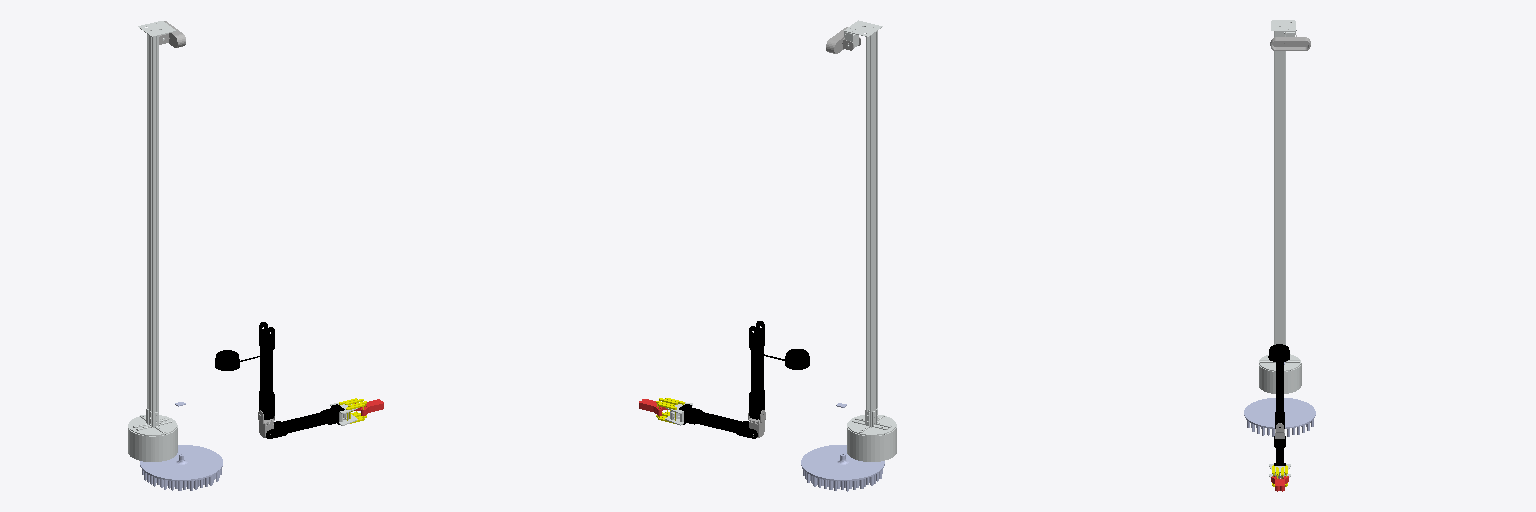
--- Render facts (derived) ---
The picture shows the robot from 3 angles, left to right: view 1: azimuth 30°, elevation 25°; view 2: azimuth 150°, elevation 25°; view 3: azimuth 270°, elevation 25°; orthographic projection.
Robot: saclebot — 34 links, 33 joints (11 revolute, 5 continuous, 1 prismatic, 16 fixed); root link base_footprint; default pose: every joint at zero.
Visible links, largest first — view 1: shoulder_link, mop_link, R1_link, base_manipulator, R3_link; view 2: shoulder_link, mop_link, R1_link, base_manipulator, R3_link; view 3: shoulder_link, mop_link, base_manipulator, R1_link, camera_head_link.
Boxes of the visible links, box(x1,y1,x2,y2) form: shoulder_link: box(129, 21, 176, 435); mop_link: box(140, 445, 222, 490); R1_link: box(259, 322, 274, 419); base_manipulator: box(128, 424, 177, 461); R3_link: box(266, 404, 344, 438); shoulder_link: box(844, 20, 895, 435); mop_link: box(801, 445, 884, 491); R1_link: box(749, 321, 764, 419); base_manipulator: box(847, 423, 896, 461); R3_link: box(679, 404, 757, 438); shoulder_link: box(1259, 20, 1300, 371); mop_link: box(1244, 398, 1315, 436); base_manipulator: box(1259, 360, 1301, 393); R1_link: box(1273, 347, 1286, 428); camera_head_link: box(1270, 35, 1310, 50).
Bounding box of the posed robot: 0.8707 × 0.2499 × 1.49 m (x, y, z).
Meshes: 23 distinct files referenced, 16 mesh visuals loaded (16 binary STL); not drawn: 7 (reference not matched to a file when rendering).

URDF robot description (saclebot):
<?xml version="1.0" encoding="utf-8"?>
<!-- URDF FILE GENERATED USING SOLIDWORKS TO URDF PLUGIN-->
<!-- MAINTAINER OF THESE FILES - SaCleBot Team - DIAT-->
<!-- Note to the reader for the effective simulation masses of all links are made to reduce by half -->
<robot name="saclebot">
                                        <!-- SaCleBot Main Assembly - Base link -->
  <link name="base_footprint"/>
  <joint name="base_joint" type="fixed">
    <parent link="base_footprint"/>
    <child link="base_link"/>
    <origin xyz="0 0 0.2575" rpy="0 0 0"/>
  </joint>
  <link name="base_link"> <!-- 2 -->
    <inertial>
      <origin xyz="0.0030962 -0.0067056 -0.034909" rpy="0 0 0" />
      <mass value="4.57525" />
      <inertia ixx="0.053635" ixy="1.4367E-08" ixz="-0.73790E-09" iyy="0.063745" iyz="-0.075785E-09" izz="0.0111315" />
    </inertial>
    <visual>
      <origin xyz="0 0 0" rpy="0 0 0" />
      <geometry>
        <mesh filename="package://saclebot_description/meshes/base_link.STL" />
      </geometry>
      <material name="">
        <color rgba="0.75294 0.75294 0.75294 1" />
      </material>
    </visual>
    <collision>
      <origin xyz="0 0 0" rpy="0 0 0" />
      <geometry>
        <mesh filename="package://saclebot_description/meshes/base_link.STL" />
      </geometry>
    </collision>
  </link>
  
                                        <!-- SaCleBot Main Assembly -  manipulator base -->
  <link name="base_manipulator">
    <inertial>
      <origin xyz="3.6943E-05 -0.00021046 -0.054473" rpy="0 0 0" />
      <mass value="1.0364" />
      <inertia ixx="0.0025042" ixy="-0.97525E-06" ixz="-3.9547E-08" iyy="0.00250305" iyz="-0.7373E-07" izz="0.0039533" />
    </inertial>
    <visual>
      <origin xyz="0 0 0" rpy="0 0 0" />
      <geometry>
        <mesh filename="package://saclebot_description/meshes/base_manipulator.STL" />
      </geometry>
      <material name="">
        <color rgba="0.90196 0.92157 0.92157 1" />
      </material>
    </visual>
    <collision>
      <origin xyz="0 0 0" rpy="0 0 0" />
      <geometry>
        <mesh filename="package://saclebot_description/meshes/base_manipulator.STL" />
      </geometry>
    </collision>
  </link>
  <joint name="base_manipulator_joint" type="fixed">
    <origin xyz="-0.1 -0.0074 -0.041" rpy="0 0 0" />
    <parent link="base_link" />
    <child link="base_manipulator" />
    <axis xyz="0 0 0" />
  </joint>
  
                                    <!-- SaCleBot Main Assembly - Shoulder Link-->
  <link name="shoulder_link">
    <inertial>
      <origin xyz="0.002613 0.0018963 0.57866" rpy="0 0 0" />
      <mass value="0.6828" />
      <inertia ixx="0.072905" ixy="-1.37205E-08" ixz="2.27745E-07" iyy="0.072845" iyz="1.49155E-07" izz="0.00036781" />
    </inertial>
    <visual>
      <origin xyz="0 0 0" rpy="0 0 0" />
      <geometry>
        <mesh filename="package://saclebot_description/meshes/shoulder_link.STL" />
      </geometry>
      <material name="">
        <color rgba="0.90196 0.92157 0.92157 1" />
      </material>
    </visual>
    <collision>
      <origin xyz="0 0 0" rpy="0 0 0" />
      <geometry>
        <mesh filename="package://saclebot_description/meshes/shoulder_link.STL" />
      </geometry>
    </collision>
  </link>
  <joint name="shoulder_joint" type="revolute"> 
    <origin xyz="0 0 0" rpy="0 0 0" />
    <parent link="base_manipulator" />
    <child link="shoulder_link" />
    <axis xyz="0 0 1" />
    <limit lower="0" upper="6.28" effort="10" velocity="2" />
  </joint>
<!--                     SaCleBot Main Assembly -                       camera head link                                          - intel real sense D345i-->
  <link name="camera_head_link">
    <inertial>
      <origin xyz="0.0266863314036889 2.22044604925031E-16 0.000112026493455208" rpy="0 0 0" />
      <mass value="0.0433695887950867" />
      <inertia ixx="0.000069700655463012" ixy="0.5986431190837E-19" ixz="1.195109891439365E-07" iyy="0.0000663023916539915" iyz="0.614128674868065E-18" izz="1.146724713408645E-05" />
    </inertial>
    <visual>
      <origin xyz="0 0 0" rpy="0 0 0" />
      <geometry>
        <mesh filename="package://saclebot_description/meshes/camera_head_link.STL" />
      </geometry>
      <material name="">
        <color rgba="0.75294 0.75294 0.75294 1" />
      </material>
    </visual>
    <collision>
      <origin xyz="0 0 0" rpy="0 0 0" />
      <geometry>
        <mesh filename="package://saclebot_description/meshes/camera_head_link.STL" />
      </geometry>
    </collision>
  </link>
  <joint name="camera_head_joint" type="revolute"> 
    <origin xyz="0.0475 0.036858 1.2585" rpy="1.5708 0 0" /> <!-- rpy 1.5708-->
    <parent link="shoulder_link" />
    <child link="camera_head_link" />
    <axis xyz="0 0 -1" /> <!-- axis -1-->
    <limit
      lower="0"
      upper="1.5708"
      effort="1"
      velocity="1" />
  </joint>
  <!-- camera_link-->
  <link name="camera_screw_frame"/>
  <link name="realsense2_link">
    <inertial>
      <origin xyz="0.00162770944218829 0.00168231639481042 2.480462200527E-06" rpy="0 0 0" />
      <mass value="0.01909558623080485" />
      <inertia ixx="1.17868705512875E-05" ixy="2.255621114487075E-08" ixz="-0.65062788929991E-08" iyy="1.055844144648745E-06" iyz="-4.011940674203395E-09" izz="1.112855399590245E-05" />
    </inertial>
    <visual>
      <origin xyz="0 0 0" rpy="0 0 0" />
      <geometry>
        <mesh filename="package://saclebot_description/meshes/camera_link.dae" />
      </geometry>
      <material
        name="">
        <color rgba="0.752941176470588 0.752941176470588 0.752941176470588 1" />
      </material>
    </visual>
    <collision>
      <origin xyz="0 0 0" rpy="0 0 0" />
      <geometry>
        <mesh filename="package://saclebot_description/meshes/camera_link.dae" />
      </geometry>
    </collision>
  </link>
  
  <joint name="camera_screw_joint" type="fixed">
    <origin xyz="0.041 0 0" rpy = "-1.57079632679491 0 0"/>
    <parent link="camera_head_link"/>
    <child link="camera_screw_frame"/>
  </joint>
  
  <joint name="camera_joint" type="fixed">
    <origin xyz="0 0 0" rpy="0 0 0" />
    <parent link="camera_screw_frame" />
    <child link="realsense2_link" />
    <axis xyz="0 0 0" />
  </joint>
  
  <link name="realsense2_depth_frame" />
  
  <joint name="realsense2_depth_joint" type="fixed">
    <origin xyz="0 0.0175 0" rpy="0 0 0"/>
    <parent link="realsense2_link"/>
    <child link="realsense2_depth_frame"/>
  </joint>
  
  <link name="realsense2_depth_optical_frame" />
  
  <joint name="realsense2_depth_optical_joint" type="fixed">
   <origin xyz="0 0 0" rpy="-1.5708 0 -1.5708"/>
   <parent link="realsense2_depth_frame"/>
   <child link="realsense2_depth_optical_frame"/>
  </joint>
  
  <link name="realsense2_left_ir_frame"/>
  
  <joint name="realsense2_left_ir_joint" type ="fixed">
    <origin xyz = "0 0 0" rpy = "0 0 0"/>
    <parent link="realsense2_depth_frame"/>
    <child link="realsense2_left_ir_frame"/>
  </joint>
  
  <link name="realsense2_left_ir_optical_frame"/>
  
  <joint name="realsense2_left_ir_optical_joint" type ="fixed">
    <origin xyz = "0 0 0" rpy = "-1.5708 0 -1.5708"/>
    <parent link="realsense2_left_ir_frame"/>
    <child link="realsense2_left_ir_optical_frame"/>
  </joint>
  
  <link name="realsense2_right_ir_frame"/>
  
  <joint name="realsense2_right_ir_joint" type ="fixed">
    <origin xyz = "0 -0.050 0" rpy = "0 0 0"/>
    <parent link="realsense2_depth_frame"/>
    <child link="realsense2_right_ir_frame"/>
  </joint>
  
  <link name="realsense2_right_ir_optical_frame"/>
  
  <joint name="realsense2_right_ir_optical_joint" type ="fixed">
    <origin xyz = "0 0 0" rpy = "-1.5708 0 -1.5708"/>
    <parent link="realsense2_right_ir_frame"/>
    <child link="realsense2_right_ir_optical_frame"/>
  </joint>
  
  <link name="realsense2_rgb_frame"/>
  
  <joint name="realsense2_rgb_joint" type ="fixed">
    <origin xyz = "0 0.015 0" rpy = "0 0 0"/>
    <parent link="realsense2_depth_frame"/>
    <child link="realsense2_rgb_frame"/>
  </joint>
  
  <link name="realsense2_rgb_optical_frame"/>
  
  <joint name="realsense2_rgb_optical_joint" type="fixed">
    <origin xyz="0 0 0" rpy = "-1.5708 0 -1.5708"/>
    <parent link = "realsense2_rgb_frame"/>
    <child link = "realsense2_rgb_optical_frame"/>
  </joint>
 
  <link name="realsense2_imu_frame"/>
  <joint name="realsense2_imu_joint" type="fixed">
    <origin xyz="0 0 0" rpy = "0 0 0"/>
    <parent link="realsense2_link"/>
    <child link="realsense2_imu_frame"/>
  </joint>
                                            <!-- SaCleBot Main Assembly - slider link -->
  <link name="slider_link">
    <inertial>
      <origin xyz="0.14315 -0.0088076 -9.8295E-07" rpy="0 0 0" /> 
      <mass value="0.244485" />
      <inertia ixx="0.000240945" ixy="-1.1776E-07" ixz="2.6165E-09" iyy="0.00079195" iyz="2.2041E-09" izz="0.000924" />
    </inertial>
    <visual>
      <origin xyz="0 0 0" rpy="0 0 0" />
      <geometry>
        <mesh filename="package://saclebot_description/meshes/slider_link.STL" />
      </geometry>
      <material name="">
        <color rgba="0.75294 0.75294 0.75294 1" />
      </material>
    </visual>
    <collision>
      <origin xyz="0 0 0" rpy="0 0 0" />
      <geometry>
        <mesh filename="package://saclebot_description/meshes/slider_link.STL" />
      </geometry>
    </collision>
  </link>
  <joint name="slider_joint" type="prismatic">
    <origin xyz="0 0.0015673 0.22" rpy="0 0 0" />
    <parent link="shoulder_link" />
    <child link="slider_link" />
    <axis xyz="0 0 1" />
    <limit lower="0.0" upper="1.21" effort="10" velocity="1" />
  </joint>
                                                <!-- SaCleBot Main Assembly -  R1 link-->
  <link name="R1_link">
    <inertial>
      <origin xyz="9.7543E-05 0.15822 -2.0845E-06" rpy="0 0 0" />
      <mass value="0.11529" />
      <inertia ixx="0.00022596" ixy="-1.2775E-07" ixz="-2.61655E-09" iyy="3.0361E-05" iyz="-2.2041E-09" izz="0.00021947" />
    </inertial>
    <visual>
      <origin xyz="0 0 0" rpy="0 0 0" />
      <geometry>
        <mesh filename="package://saclebot_description/meshes/R1_link.STL" />
      </geometry>
      <material name="">
        <color rgba="0 0 0 1" />
      </material>
    </visual>
    <collision>
      <origin xyz="0 0 0" rpy="0 0 0" />
      <geometry>
        <mesh filename="package://saclebot_description/meshes/R1_link.STL" />
      </geometry>
    </collision>
  </link>
  <joint name="R1_joint" type="revolute">
    <origin xyz="0.3955 -0.0015673 0" rpy="-1.5708 0 0" />
    <parent link="slider_link" />
    <child link="R1_link" />
    <axis xyz="0 0 1" />
    <limit lower="-3.1416" upper="0" effort="15" velocity="10" />
  </joint>
<!--                SaCleBot Main Assembly -                                                R2 link                                                     -->
  <link name="R2_link">
    <inertial>
      <origin xyz="0.038942 -0.00027273 -5.8282E-06" rpy="0 0 0" />
      <mass value="0.041234" />
      <inertia ixx="0.9521E-05" ixy="1.2775E-07" ixz="-2.2041E-09" iyy="1.35025E-05" iyz="2.61655E-09" izz="2.2002E-05" />
    </inertial>
    <visual>
      <origin xyz="0 0 0" rpy="0 0 0" />
      <geometry>
        <mesh filename="package://saclebot_description/meshes/R2_link.STL" />
      </geometry>
      <material name="">
        <color rgba="0.75 0.75 0.75 1" />
      </material>
    </visual>
    <collision>
      <origin xyz="0 0 0" rpy="0 0 0" />
      <geometry>
        <mesh filename="package://saclebot_description/meshes/R2_link.STL" />
      </geometry>
    </collision>
  </link>
  <joint name="R2_joint" type="revolute"> 
    <origin xyz="0 0.276 0" rpy="1.5708 0 1.5708" />
    <parent link="R1_link" />
    <child link="R2_link" />
    <axis xyz="0 0 -1" />
    <limit
      lower="-1.5708"
      upper="1.5708"
      effort="5"
      velocity="5" />
  </joint>
<!--                        SaCleBot Main Assembly -                                     R3 - link-->
  <link name="R3_link">
    <inertial>
      <origin xyz="0.13127 -1.2768E-15 2.8866E-15" rpy="0 0 0" />
      <mass value="0.091215" />
      <inertia ixx="2.80165E-05" ixy="0.5051E-19" ixz="4.4224E-20" iyy="0.000211185" iyz="-0.85295E-20" izz="0.000207805" />
    </inertial>
    <visual>
      <origin xyz="0 0 0" rpy="0 0 0" />
      <geometry>
        <mesh filename="package://saclebot_description/meshes/R3_link.STL" />
      </geometry>
      <material name="">
        <color rgba="0 0 0 1" />
      </material>
    </visual>
    <collision>
      <origin xyz="0 0 0" rpy="0 0 0" />
      <geometry>
        <mesh filename="package://saclebot_description/meshes/R3_link.STL" />
      </geometry>
    </collision>
  </link>
  <joint name="R3_joint" type="revolute"> 
    <origin xyz="0.06 0 0" rpy="1.5708 -1.5708 0" />
    <parent link="R2_link" />
    <child link="R3_link" />
    <axis xyz="0 0 -1" /> <!-- axis 00-1-->
    <limit
      lower="-1.5708"
      upper="3.1416"
      effort="2"
      velocity="2" />
  </joint>
  <!--                                      SaCleBot Main Assembly                  -       Gripper -->
  <link name="gripper_base_link">
    <inertial>
      <origin xyz="0.00070517 -0.00079249 -0.039763" rpy="0 0 0" />
      <mass value="0.0667" />
      <inertia ixx="1.4344E-05" ixy="-2.2473E-08" ixz="-1.81605E-07" iyy="2.4466E-05" iyz="-2.02345E-08" izz="1.60365E-05" />
    </inertial>
    <visual>
      <origin xyz="0 0 0" rpy="0 0 0" />
      <geometry>
        <mesh filename="package://gripper_description/meshes/gripper_base_link.STL" />
      </geometry>
      <material name="">
        <color rgba="0.90196 0.92157 0.92157 1" />
      </material>
    </visual>
    <collision>
      <origin xyz="0 0 0" rpy="0 0 0" />
      <geometry>
        <mesh filename="package://gripper_description/meshes/gripper_base_link.STL" />
      </geometry>
    </collision>
  </link>
  <joint name="gripper_joint" type="fixed">
    <origin xyz="0.302 0 0" rpy="0 1.5708 0" />
    <parent link="R3_link" />
    <child link="gripper_base_link" />
    <axis xyz="0 0 1" />
  </joint>
  <link name="left_actuator">
    <inertial>
      <origin xyz="0.03452 -2.9837E-16 0.0013795" rpy="0 0 0" />
      <mass value="0.006526" />
      <inertia ixx="0.57745E-06" ixy="-1.78225E-22" ixz="-1.6909E-21" iyy="1.5598E-06" iyz="1.70975E-22" izz="1.0792E-06" />
    </inertial>
    <visual>
      <origin xyz="0 0 0" rpy="0 0 0" />
      <geometry>
        <mesh filename="package://gripper_description/meshes/left_actuator.STL" />
      </geometry>
      <material name="">
        <color rgba="1 1 0 1" />
      </material>
    </visual>
    <collision>
      <origin xyz="0 0 0" rpy="0 0 0" />
      <geometry>
        <mesh filename="package://gripper_description/meshes/left_actuator.STL" />
      </geometry>
    </collision>
  </link>
  <joint name="left_act_joint" type="revolute">
    <origin xyz="0.01 0 -0.02" rpy="-1.5708 -1.5708 0" />
    <parent link="gripper_base_link" />
    <child link="left_actuator" />
    <axis xyz="0 0 1" />
    <limit lower="0" upper="1.5708" effort="1" velocity="1" />
  </joint>
  <link name="rocker_left_link">
    <inertial>
      <origin xyz="-0.00076233 0.021677 3.747E-16" rpy="0 0 0" />
      <mass value="0.014043" />
      <inertia ixx="0.8085E-05" ixy="-1.08575E-06" ixz="2.5182E-22" iyy="1.0719E-06" iyz="1.8019E-21" izz="0.82295E-05" />
    </inertial>
    <visual>
      <origin xyz="0 0 0" rpy="0 0 0" />
      <geometry>
        <mesh filename="package://gripper_description/meshes/rocker_left_link.STL" />
      </geometry>
      <material name="">
        <color rgba="0.95 0.25 0.25 1" />
      </material>
    </visual>
    <collision>
      <origin xyz="0 0 0" rpy="0 0 0" />
      <geometry>
        <mesh filename="package://gripper_description/meshes/rocker_left_link.STL" />
      </geometry>
    </collision>
  </link>
  <joint name="rocker_left_joint" type="revolute">
    <origin xyz="0.055 0 0" rpy="0 0 -1.5708" />
    <parent link="left_actuator" />
    <child link="rocker_left_link" />
    <axis xyz="0 0 1" />
    <limit lower="-3.1415926" upper="3.1415926" effort="1" velocity="1" />
    <mimic joint="left_act_joint" multiplier="-1" offset="0" />
  </joint>
  <link name="right_actuator">
    <inertial>
      <origin xyz="0.033438 -2.8927E-16 0.0010856" rpy="0 0 0" />
      <mass value="0.006737" />
      <inertia ixx="0.67005E-06" ixy="-3.15845E-21" ixz="-1.79165E-21" iyy="1.6524E-06" iyz="0.5811E-21" izz="1.07965E-06" />
    </inertial>
    <visual>
      <origin xyz="0 0 0" rpy="0 0 0" />
      <geometry>
        <mesh filename="package://gripper_description/meshes/right_actuator.STL" />
      </geometry>
      <material name="">
        <color rgba="1 1 0 1" />
      </material>
    </visual>
    <collision>
      <origin xyz="0 0 0" rpy="0 0 0" />
      <geometry>
        <mesh filename="package://gripper_description/meshes/right_actuator.STL" />
      </geometry>
    </collision>
  </link>
  <joint name="right_act_joint" type="revolute">
    <origin xyz="-0.01 0 -0.02" rpy="-1.5708 -1.5708 0" />
    <parent link="gripper_base_link" />
    <child link="right_actuator" />
    <axis xyz="0 0 1" />
    <limit lower="-1.5708" upper="0" effort="1" velocity="1" />    <mimic joint="left_act_joint" multiplier="-1" offset="0" />
  </joint>
  <link name="rocker_right_link">
    <inertial>
      <origin xyz="-0.00076233 -0.021677 -8.3267E-17" rpy="0 0 0" />
      <mass value="0.014043"/>
      <inertia ixx="0.8085E-05" ixy="-1.08575E-06" ixz="2.5182E-22" iyy="1.0719E-06" iyz="1.8019E-21" izz="0.82295E-05" />
    </inertial>
    <visual>
      <origin xyz="0 0 0" rpy="0 0 0" />
      <geometry>
        <mesh filename="package://gripper_description/meshes/rocker_right_link.STL" />
      </geometry>
      <material name="">
        <color rgba="0.95 0.25 0.25 1" />
      </material>
    </visual>
    <collision>
      <origin xyz="0 0 0" rpy="0 0 0" />
      <geometry>
        <mesh filename="package://gripper_description/meshes/rocker_right_link.STL" />
      </geometry>
    </collision>
  </link>
  <joint name="rocker_right_joint" type="revolute">
    <origin xyz="0.055 0 0" rpy="0 0 1.5708" />
    <parent link="right_actuator" />
    <child link="rocker_right_link" />
    <axis xyz="0 0 1" />
    <limit lower="-3.1415926" upper="3.1415926" effort="1" velocity="1" />
    <mimic joint="right_act_joint" multiplier="-1" offset="0" />
  </joint>
  <link name="crank_left_link">
    <inertial>
      <origin xyz="0.0275 6.9389E-18 -0.00030296" rpy="0 0 0" />
      <mass value="0.008192" />
      <inertia ixx="1.0728E-06" ixy="-1.86615E-22" ixz="0.9102E-22" iyy="2.05515E-06" iyz="2.4703E-25" izz="1.0463E-06" />
    </inertial>
    <visual>
      <origin xyz="0 0 0" rpy="0 0 0" />
      <geometry>
        <mesh filename="package://gripper_description/meshes/crank_left_link.STL" />
      </geometry>
      <material name="">
        <color rgba="1 1 0 1" />
      </material>
    </visual>
    <collision>
      <origin xyz="0 0 0" rpy="0 0 0" />
      <geometry>
        <mesh filename="package://gripper_description/meshes/crank_left_link.STL" />
      </geometry>
    </collision>
  </link>
  <joint name="crank_left_joint" type="revolute">
    <origin xyz="0.022 0 -0.035" rpy="1.5708 -1.5708 0" />
    <parent link="gripper_base_link" />
    <child link="crank_left_link" />
    <axis xyz="0 0 -1" />
    <limit lower="-3.1415926" upper="3.1415926" effort="1.0" velocity="1.0" />
    <mimic joint="left_act_joint" multiplier="1" offset="0" />
  </joint>
  <link name="crank_right_link">
    <inertial>
      <origin xyz="0.0275 5.2042E-18 -0.00030296" rpy="0 0 0" />
      <mass value="0.008192" />
      <inertia ixx="1.0728E-06" ixy="-1.86615E-22" ixz="0.9102E-22" iyy="2.05515E-06" iyz="2.4703E-25" izz="1.0463E-06" />
    </inertial>
    <visual>
      <origin xyz="0 0 0" rpy="0 0 0" />
      <geometry>
        <mesh filename="package://gripper_description/meshes/crank_right_link.STL" />
      </geometry>
      <material name="">
        <color rgba="1 1 0 1" />
      </material>
    </visual>
    <collision>
      <origin
        xyz="0 0 0"
        rpy="0 0 0" />
      <geometry>
        <mesh
          filename="package://gripper_description/meshes/crank_right_link.STL" />
      </geometry>
    </collision>
  </link>
  <joint name="crank_right_joint" type="revolute">
    <origin xyz="-0.022 0 -0.035" rpy="1.5708 -1.5708 0" />
    <parent link="gripper_base_link" />
    <child link="crank_right_link" />
    <axis xyz="0 0 -1" />
    <limit lower="-3.1415926" upper="3.1415926" effort="1" velocity="1" />
    <mimic joint="left_act_joint" multiplier="-1" offset="0" />
  </joint>
  <!--                              SaCleBot Main Assembly                  imu link                    -->
  <link name="nxp_imu_link"> <!-- neglected for reduction -->
    <inertial>
      <origin xyz="-9.29811783123569E-16 -1.22124532708767E-15 0.0015" rpy="0 0 0" />
      <mass value="0.00167768920715673" />
      <inertia ixx="5.77688933946281E-08" ixy="-2.42338070084007E-24" ixz="2.16074504319118E-24" iyy="1.0795187605053E-07" iyz="-5.63644326339606E-22" izz="1.63204235634423E-07" />
    </inertial>
    <visual>
      <origin xyz="0 0 0" rpy="0 0 0" />
      <geometry>
        <mesh filename="package://saclebot_description/meshes/nxp_imu_link.STL" />
      </geometry>
      <material name="">
        <color rgba="0.792156862745098 0.819607843137255 0.933333333333333 1" />
      </material>
    </visual>
    <collision>
      <origin xyz="0 0 0" rpy="0 0 0" />
      <geometry>
        <mesh filename="package://saclebot_description/meshes/nxp_imu_link.STL" />
      </geometry>
    </collision>
  </link>
  <joint name="nxp_imu_joint" type="fixed">
    <origin xyz="0 0 0" rpy="0 0 0" />
    <parent link="base_link" />
    <child link="nxp_imu_link" />
  </joint>
  <!-- RP-LiDAR A3M1 -->
  <link name="RP_LiDAR_A3M1_link"> <!-- neglected for reduction -->
    <inertial>
      <origin xyz="0.0017336 -0.00015015 -0.012532" rpy="0 0 0" />
      <mass value="0.0466" />
      <inertia ixx="1.9742E-05" ixy="3.5144E-07" ixz="5.369E-08" iyy="1.5765E-05" iyz="8.0776E-08" izz="3.3885E-05" />
    </inertial>
    <visual>
      <origin xyz="0 0 0" rpy="0 0 0" />
      <geometry>
        <mesh filename="package://saclebot_description/meshes/RP_LiDAR_A3M1_link.STL" />
      </geometry>
      <material name="">
        <color rgba="0 0 0 1" />
      </material>
    </visual>
    <collision>
      <origin xyz="0 0 0" rpy="0 0 0" />
      <geometry>
        <mesh filename="package://saclebot_description/meshes/RP_LiDAR_A3M1_link.STL" />
      </geometry>
    </collision>
  </link>
  <joint name="RP_LiDAR_A3M1_joint" type="fixed">
    <origin xyz="0.15749 -0.0096 0.126" rpy="0 0 0" />
    <parent link="base_link" />
    <child link="RP_LiDAR_A3M1_link" />
    <axis xyz="0 0 0" />
  </joint>
  <!-- mop link-->
  <link name="mop_link">
    <inertial>
      <origin xyz="-1.3878E-17 5.5511E-17 0.073689" rpy="0 0 0" />
      <mass value="0.34816" />
      <inertia ixx="0.00135195" ixy="-1.4359E-07" ixz="-0.52145E-18" iyy="0.00134805" iyz="-1.80635E-19" izz="0.00258675" />
    </inertial>
    <visual>
      <origin xyz="0 0 0" rpy="0 0 0" />
      <geometry>
        <mesh filename="package://saclebot_description/meshes/mop_link.STL" />
      </geometry>
      <material name="">
        <color rgba="0.79216 0.81961 0.93333 1" />
      </material>
    </visual>
    <collision>
      <origin xyz="0 0 0" rpy="0 0 0" />
      <geometry>
        <mesh filename="package://saclebot_description/meshes/mop_link.STL" />
      </geometry>
    </collision>
  </link>
  <joint name="mop_joint" type="continuous">
    <origin xyz="0 -0.0074 -0.13" rpy="-3.1416 0 0" />
    <parent link="base_link" />
    <child link="mop_link" />
    <axis xyz="0 0 1" />
  </joint>
  <!-- front right wheel -->
  <link name="frontRightWheel_link">
    <inertial>
      <origin xyz="-5.3092E-08 3.5546E-07 -0.0080247" rpy="0 0 0" />
      <mass value="0.28362" />
      <inertia ixx="0.000077795" ixy="-0.98815E-10" ixz="2.6807E-10" iyy="0.000077795" iyz="4.08805E-11" izz="0.000116385" />
    </inertial>
    <visual>
      <origin xyz="0 0 0" rpy="0 0 0" />
      <geometry>
        <mesh filename="package://saclebot_description/meshes/frontRightWheel_link.STL" />
      </geometry>
      <material name="">
        <color rgba="0.75294 0.75294 0.75294 1" />
      </material>
    </visual>
    <collision>
      <origin xyz="0 0 0" rpy="0 0 0" />
      <geometry>
        <mesh filename="package://saclebot_description/meshes/frontRightWheel_link.STL" />
      </geometry>
    </collision>
  </link>
  <joint name="frontRightWheel_joint" type="continuous">
    <origin xyz="0.2 -0.23554 -0.2075" rpy="1.5708 0 0" />
    <parent link="base_link" />
    <child link="frontRightWheel_link" />
    <axis xyz="0 0 -1" />
  </joint>
  <!-- rear right wheel-->
  <link name="rearRightWheel_link">
    <inertial>
      <origin xyz="-1.1869E-07 1.9139E-07 -0.0080203" rpy="0 0 0" />
      <mass value="0.28362" />
      <inertia ixx="0.000077795" ixy="-0.98815E-10" ixz="2.6807E-10" iyy="0.000077795" iyz="4.08805E-11" izz="0.000116385" />
    </inertial>
    <visual>
      <origin xyz="0 0 0" rpy="0 0 0" />
      <geometry>
        <mesh filename="package://saclebot_description/meshes/rearRightWheel_link.STL" />
      </geometry>
      <material name="">
        <color rgba="0.75294 0.75294 0.75294 1" />
      </material>
    </visual>
    <collision>
      <origin xyz="0 0 0" rpy="0 0 0" />
      <geometry>
        <mesh filename="package://saclebot_description/meshes/rearRightWheel_link.STL" />
      </geometry>
    </collision>
  </link>
  <joint name="rearRightWheel_joint" type="continuous">
    <origin xyz="-0.2 -0.23554 -0.2075" rpy="1.5708 0 0" />
    <parent link="base_link" />
    <child link="rearRightWheel_link" />
    <axis xyz="0 0 -1" />
  </joint>
  <!-- front left wheel -->
  <link name="frontLeftWheel_link">
    <inertial>
      <origin xyz="5.8442E-08 -2.1845E-07 -0.0080203" rpy="0 0 0" />
      <mass value="0.28362" />
      <inertia ixx="0.000077795" ixy="-0.98815E-10" ixz="2.6807E-10" iyy="0.000077795" iyz="4.08805E-11" izz="0.000116385" />
    </inertial>
    <visual>
      <origin xyz="0 0 0" rpy="0 0 0" />
      <geometry>
        <mesh filename="package://saclebot_description/meshes/frontLeftWheel_link.STL" />
      </geometry>
      <material name="">
        <color rgba="0.75294 0.75294 0.75294 1" />
      </material>
    </visual>
    <collision>
      <origin xyz="0 0 0" rpy="0 0 0" />
      <geometry>
        <mesh filename="package://saclebot_description/meshes/frontLeftWheel_link.STL" />
      </geometry>
    </collision>
  </link>
  <joint name="frontLeftWheel_joint" type="continuous">
    <origin xyz="0.2 0.22074 -0.2075" rpy="-1.5708 0 0" />
    <parent link="base_link" />
    <child link="frontLeftWheel_link" />
    <axis xyz="0 0 1" />
  </joint>
  <!-- rear left wheel -->
  <link name="rearLeftWheel_link">
    <inertial>
      <origin xyz="-3.3704E-07 1.1934E-07 -0.0080247" rpy="0 0 0" />
      <mass value="0.28362" />
      <inertia ixx="0.000077795" ixy="-0.98815E-10" ixz="2.6807E-10" iyy="0.000077795" iyz="4.08805E-11" izz="0.000116385" />
    </inertial>
    <visual>
      <origin xyz="0 0 0" rpy="0 0 0" />
      <geometry>
        <mesh filename="package://saclebot_description/meshes/rearLeftWheel_link.STL" />
      </geometry>
      <material name="">
        <color rgba="0.75294 0.75294 0.75294 1" />
      </material>
    </visual>
    <collision>
      <origin xyz="0 0 0" rpy="0 0 0" />
      <geometry>
        <mesh filename="package://saclebot_description/meshes/rearLeftWheel_link.STL" />
      </geometry>
    </collision>
  </link>
  <joint name="rearLeftWheel_joint" type="continuous">
    <origin xyz="-0.2 0.22074 -0.2075" rpy="-1.5708 0 0" />
    <parent link="base_link" />
    <child link="rearLeftWheel_link" />
    <axis xyz="0 0 1" />
  </joint>
  
  <!-- Gazebo elements-->
  
  <gazebo>
		<plugin name="gazebo_ros_control" filename="libgazebo_ros_control.so"/>
  </gazebo>
  <!-- gazebo references for links-->
  <gazebo reference="left_actuator">
    <kp>10000.0</kp>
    <kd>1000.0</kd>
  	<mu1>0.2</mu1>
    <mu2>0.2</mu2>
    <material>Gazebo/Yellow</material>
  </gazebo>
  <gazebo reference="crank_left_link">
    <kp>10000.0</kp>
    <kd>1000.0</kd>
  	<mu1>0.2</mu1>
    <mu2>0.2</mu2>
    <material>Gazebo/Yellow</material>
  </gazebo>
  <gazebo reference="rocker_left_link">
    <kp>10000.0</kp>
    <kd>1000.0</kd>
  	<mu1>0.2</mu1>
    <mu2>0.2</mu2>
    <material>Gazebo/Red</material>
  </gazebo>
  <gazebo reference="right_actuator">
    <kp>10000.0</kp>
    <kd>1000.0</kd>
  	<mu1>0.2</mu1>
    <mu2>0.2</mu2>
    <material>Gazebo/Yellow</material>
  </gazebo>
  <gazebo reference="crank_right_link">
    <kp>10000.0</kp>
    <kd>1000.0</kd>
  	<mu1>0.2</mu1>
    <mu2>0.2</mu2>
    <material>Gazebo/Yellow</material>
  </gazebo>
  <gazebo reference="rocker_right_link">
    <kp>10000.0</kp>
    <kd>1000.0</kd>
  	<mu1>0.2</mu1>
    <mu2>0.2</mu2>
    <material>Gazebo/Red</material>
  </gazebo>
  <gazebo reference="shoulder_link">
    <kp>10000.0</kp>
    <kd>1000.0</kd>
    <mu1>0.2</mu1>
    <mu2>0.2</mu2>
  </gazebo>  
  <gazebo reference="slider_link">
    <kp>10000.0</kp>
    <kd>1000.0</kd>
  	<mu1>0.2</mu1>
    <mu2>0.2</mu2>
    <material>Gazebo/Red</material>
  </gazebo>
  
  <!-- Gazebo sensor links-->
  <gazebo reference="nxp_imu_link">
    <gravity>true</gravity>
    <sensor name="imu_sensor" type="imu">
      <always_on>true</always_on>
      <update_rate>100</update_rate>
      <visualize>true</visualize>
      <topic>imu</topic>
      <plugin filename="libgazebo_ros_imu_sensor.so" name="imu_plugin">
        <topicName>imu</topicName>
        <bodyName>nxp_imu_link</bodyName>
        <updateRateHZ>100.0</updateRateHZ>
        <gaussianNoise>0.05</gaussianNoise>
        <xyzOffset>0 0 0</xyzOffset>
        <rpyOffset>0 0 0</rpyOffset>
        <frameName>nxp_imu_link</frameName>
        <initialOrientationAsReference>false</initialOrientationAsReference>
      </plugin>
      <pose>0 0 0 0 0 0</pose>
    </sensor>
  </gazebo>
  
  <gazebo reference="realsense2_imu_frame">
    <gravity>true</gravity>
    <sensor name="imu_sensor_realsense" type="imu">
      <always_on>true</always_on>
      <update_rate>100</update_rate>
      <visualize>true</visualize>
      <topic>realsense2/imu</topic>
      <plugin filename="libgazebo_ros_imu_sensor.so" name="imu_plugin">
        <topicName>realsense2/imu</topicName>
        <bodyName>realsense2_imu_frame</bodyName>
        <updateRateHZ>100.0</updateRateHZ>
        <gaussianNoise>0.05</gaussianNoise>
        <xyzOffset>0 0 0</xyzOffset>
        <rpyOffset>0 0 0</rpyOffset>
        <frameName>realsense2_imu_frame</frameName>
        <initialOrientationAsReference>false</initialOrientationAsReference>
      </plugin>
      <pose>0 0 0 0 0 0</pose>
    </sensor>
  </gazebo>
  
  <gazebo reference="realsense2_link">
    <self_collide>0</self_collide>
    <enable_wind>0</enable_wind>
    <kinematic>0</kinematic>
    <gravity>1</gravity>
    <mu2>1</mu2>
    <fdir1>0 0 0</fdir1>
    <kp>1e+13</kp>
    <kd>1</kd>
    <sensor name="realsense2_color" type="camera">
        <camera name="realsense2">
            <horizontal_fov>1.211258501</horizontal_fov>
            <image>
                <width>1920</width>
                <height>1080</height>
                <format>RGB_INT8</format>
            </image>
            <clip>
                <near>0.1</near>
                <far>1000</far>
            </clip>
            <noise>
                <type>gaussian</type>
                <mean>0.0</mean>
                <stddev>0.007</stddev>
            </noise>
        </camera>
        <always_on>1</always_on>
        <update_rate>50</update_rate>
        <visualize>0</visualize>
    </sensor>
    <sensor name="realsense2_ired1" type="camera">
        <camera name="realsense2">
            <horizontal_fov>1.487020523</horizontal_fov>
            <image>
                <width>1280</width>
                <height>720</height>
                <format>L_INT8</format>
            </image>
            <clip>
                <near>0.1</near>
                <far>1000.0</far>
            </clip>
            <noise>
                <type>gaussian</type>
                <mean>0.0</mean>
                <stddev>0.05</stddev>
            </noise>
        </camera>
        <always_on>1</always_on>
        <update_rate>100</update_rate>
        <visualize>0</visualize>
    </sensor>
    <sensor name="realsense2_ired2" type="camera">
        <camera name="realsense2">
            <horizontal_fov>1.487020523</horizontal_fov>
            <image> 
                <width>1280</width>
                <height>720</height>
                <format>L_INT8</format>
            </image>
            <clip>
                <near>0.1</near>
                <far>1000.0</far>
            </clip>
            <noise>
                <type>gaussian</type>
                <mean>0.0</mean>
                <stddev>0.05</stddev>
            </noise>
        </camera>
        <always_on>1</always_on>
        <update_rate>100</update_rate>
        <visualize>0</visualize>
    </sensor>
    <sensor name="realsense2_depth" type="depth">
        <camera name="realsense2">
            <horizontal_fov>1.487020523</horizontal_fov>
            <image> 
                <width>1280</width>
                <height>720</height>
                <format>L_INT8</format>
            </image>
            <clip>
                <near>0.1</near>
                <far>1000.0</far>
            </clip>
            <noise>
                <type>gaussian</type>
                <mean>0.0</mean>
                <stddev>0.100</stddev>
            </noise>
        </camera>
        <always_on>1</always_on>
        <update_rate>100</update_rate>
        <visualize>0</visualize>
        <plugin name="kinect_controller" filename="libgazebo_ros_openni_kinect.so">
            <alwaysOn>true</alwaysOn>
            <updateRate>10.0</updateRate>
            <cameraName>realsense2_d435i</cameraName>
            <frameName>realsense2_depth_optical_frame</frameName>
            <imageTopicName>rgb/image_raw</imageTopicName>
            <depthImageTopicName>depth/image_raw</depthImageTopicName>
            <pointCloudTopicName>depth/points</pointCloudTopicName>
            <cameraInfoTopicName>rgb/camera_info</cameraInfoTopicName>
            <depthImageCameraInfoTopicName>depth/camera_info</depthImageCameraInfoTopicName>
            <pointCloudCutoff>0.4</pointCloudCutoff>
            <hackBaseline>0.07</hackBaseline>
            <distortionK1>0.0</distortionK1>
            <distortionK2>0.0</distortionK2>
            <distortionK3>0.0</distortionK3>
            <distortionT1>0.0</distortionT1>
            <distortionT2>0.0</distortionT2>
            <CxPrime>0.0</CxPrime>
            <Cx>0.0</Cx>
            <Cy>0.0</Cy>
            <focalLength>0.0</focalLength>
        </plugin>
    </sensor>  
  </gazebo>
  <gazebo>
    <plugin name="meccanum_ros_force_based_move" filename="librobot_force_based_move.so">
      <commandTopic>cmd_vel</commandTopic>
      <odometryTopic>odom</odometryTopic>
      <odometryFrame>odom</odometryFrame>
      <odometryRate>25.0</odometryRate>
      <robotBaseFrame>base_footprint</robotBaseFrame>
      <cmdVelTimeOut>0.25</cmdVelTimeOut>
      <publishOdometryTf>1</publishOdometryTf>
      <yaw_velocity_p_gain>1.0</yaw_velocity_p_gain>
      <x_velocity_p_gain>15.0</x_velocity_p_gain>
      <y_velocity_p_gain>15.0</y_velocity_p_gain>
      <max_x_velocity>0.6</max_x_velocity>
      <max_y_velocity>0.6</max_y_velocity>
      <max_yaw_velocity>0.5</max_yaw_velocity>
    </plugin>
  </gazebo>
  
        
        
  <gazebo reference="RP_LiDAR_A3M1_link">
    <sensor type="ray" name="head_rplidar_sensor">
      <pose>0 0 0.06 0 0 0</pose>
      <visualize>false</visualize>
      <update_rate>40</update_rate>
      <ray>
        <scan>
          <horizontal>
            <samples>720</samples>
            <resolution>1</resolution>
            <min_angle>-3.0543261909900767596164588</min_angle>
            <max_angle>3.0543261909900767596164588</max_angle>
          </horizontal>
        </scan>
        <range>
          <min>0.2</min>
          <max>25.0</max>
          <resolution>0.01</resolution>
        </range>
        <noise>
          <type>gaussian</type>
          <mean>0.0</mean>
          <stddev>0.01</stddev>
        </noise>
      </ray>
      <plugin name="gazebo_ros_head_rplidar_controller" filename="libgazebo_ros_laser.so">
        <topicName>scan</topicName>
        <frameName>RP_LiDAR_A3M1_link</frameName>
      </plugin>
    </sensor>
  </gazebo>
  
  <transmission name="trans1">
        <type>transmission_interface/SimpleTransmission</type>
        <joint name="frontRightWheel_joint">
            <hardwareInterface>hardware_interface/EffortJointInterface</hardwareInterface>
        </joint>
        <actuator name="motor1">
            <hardwareInterface>hardware_interface/EffortJointInterface</hardwareInterface>
            <mechanicalReduction>1</mechanicalReduction>
        </actuator>
  </transmission>
  
  <transmission name="trans2">
        <type>transmission_interface/SimpleTransmission</type>
        <joint name="frontLeftWheel_joint">
            <hardwareInterface>hardware_interface/EffortJointInterface</hardwareInterface>
        </joint>
        <actuator name="motor2">
            <hardwareInterface>hardware_interface/EffortJointInterface</hardwareInterface>
            <mechanicalReduction>1</mechanicalReduction>
        </actuator>
  </transmission>
  
  <transmission name="trans3">
        <type>transmission_interface/SimpleTransmission</type>
        <joint name="rearRightWheel_joint">
            <hardwareInterface>hardware_interface/EffortJointInterface</hardwareInterface>
        </joint>
        <actuator name="motor3">
            <hardwareInterface>hardware_interface/EffortJointInterface</hardwareInterface>
            <mechanicalReduction>1</mechanicalReduction>
        </actuator>
  </transmission>
  
  <transmission name="trans4">
        <type>transmission_interface/SimpleTransmission</type>
        <joint name="rearLeftWheel_joint">
            <hardwareInterface>hardware_interface/EffortJointInterface</hardwareInterface>
        </joint>
        <actuator name="motor4">
            <hardwareInterface>hardware_interface/EffortJointInterface</hardwareInterface>
            <mechanicalReduction>1</mechanicalReduction>
        </actuator>
  </transmission>
  
  <transmission name="trans5">
        <type>transmission_interface/SimpleTransmission</type>
        <joint name="shoulder_joint">
            <hardwareInterface>hardware_interface/EffortJointInterface</hardwareInterface>
        </joint>
        <actuator name="motor5">
            <hardwareInterface>hardware_interface/EffortJointInterface</hardwareInterface>
            <mechanicalReduction>1</mechanicalReduction>
        </actuator>
  </transmission>
  
  <transmission name="trans6">
        <type>transmission_interface/SimpleTransmission</type>
        <joint name="slider_joint">
            <hardwareInterface>hardware_interface/EffortJointInterface</hardwareInterface>
        </joint>
        <actuator name="motor6">
            <hardwareInterface>hardware_interface/EffortJointInterface</hardwareInterface>
            <mechanicalReduction>1</mechanicalReduction>
        </actuator>
  </transmission>-
  
  <transmission name="trans7">
        <type>transmission_interface/SimpleTransmission</type>
        <joint name="R1_joint">
            <hardwareInterface>hardware_interface/EffortJointInterface</hardwareInterface>
        </joint>
        <actuator name="motor7">
            <hardwareInterface>hardware_interface/EffortJointInterface</hardwareInterface>
            <mechanicalReduction>1</mechanicalReduction>
        </actuator>
  </transmission>
  
  <transmission name="trans8">
        <type>transmission_interface/SimpleTransmission</type>
        <joint name="R2_joint">
            <hardwareInterface>hardware_interface/EffortJointInterface</hardwareInterface>
        </joint>
        <actuator name="motor8">
            <hardwareInterface>hardware_interface/EffortJointInterface</hardwareInterface>
            <mechanicalReduction>1</mechanicalReduction>
        </actuator>
  </transmission>
  
  <transmission name="trans9">
        <type>transmission_interface/SimpleTransmission</type>
        <joint name="R3_joint">
            <hardwareInterface>hardware_interface/EffortJointInterface</hardwareInterface>
        </joint>
        <actuator name="motor9">
            <hardwareInterface>hardware_interface/EffortJointInterface</hardwareInterface>
            <mechanicalReduction>1</mechanicalReduction>
        </actuator>
  </transmission>
  
  <transmission name="trans10">
        <type>transmission_interface/SimpleTransmission</type>
        <joint name="left_act_joint">
            <hardwareInterface>hardware_interface/EffortJointInterface</hardwareInterface>
        </joint>
        <actuator name="motor10">
            <hardwareInterface>hardware_interface/EffortJointInterface</hardwareInterface>
            <mechanicalReduction>1</mechanicalReduction>
        </actuator>
  </transmission>
  
  <transmission name="trans11">
        <type>transmission_interface/SimpleTransmission</type>
        <joint name="camera_head_joint">
            <hardwareInterface>hardware_interface/EffortJointInterface</hardwareInterface>
        </joint>
        <actuator name="motor11">
            <hardwareInterface>hardware_interface/EffortJointInterface</hardwareInterface>
            <mechanicalReduction>1</mechanicalReduction>
        </actuator>
  </transmission>
  
  <transmission name="trans12">
        <type>transmission_interface/SimpleTransmission</type>
        <joint name="mop_joint">
            <hardwareInterface>hardware_interface/EffortJointInterface</hardwareInterface>
        </joint>
        <actuator name="motor12">
            <hardwareInterface>hardware_interface/EffortJointInterface</hardwareInterface>
            <mechanicalReduction>1</mechanicalReduction>
        </actuator>
  </transmission>
  
  <gazebo>
  	<plugin name="rocker_left_joint_plugin" filename="libroboticsgroup_upatras_gazebo_mimic_joint_plugin.so">
  		<joint> left_act_joint</joint>
  		<mimicJoint>rocker_left_joint</mimicJoint>
  		<multiplier>-1.0</multiplier>
  		<offset>0.0</offset>
  	</plugin>
  </gazebo>
  <gazebo>
  	<plugin name="right_act_joint_plugin" filename="libroboticsgroup_upatras_gazebo_mimic_joint_plugin.so">
  		<joint> left_act_joint</joint>
  		<mimicJoint>right_act_joint</mimicJoint>
  		<multiplier>-1.0</multiplier>
  		<offset>0.0</offset>
  	</plugin>
  </gazebo>
  <gazebo>
  	<plugin name="rocker_right_joint_plugin" filename="libroboticsgroup_upatras_gazebo_mimic_joint_plugin.so">
  		<joint> right_act_joint</joint>
  		<mimicJoint>rocker_right_joint</mimicJoint>
  		<multiplier>-1.0</multiplier>
  		<offset>0.0</offset>
  	</plugin>
  </gazebo>
  <gazebo>
  	<plugin name="crank_left_joint_plugin" filename="libroboticsgroup_upatras_gazebo_mimic_joint_plugin.so">
  		<joint> left_act_joint</joint>
  		<mimicJoint>crank_left_joint</mimicJoint>
  		<multiplier>1.0</multiplier>
  		<offset>0.0</offset>
  	</plugin>
  </gazebo>
  <gazebo>
  	<plugin name="crank_right_joint_plugin" filename="libroboticsgroup_upatras_gazebo_mimic_joint_plugin.so">
  		<joint> left_act_joint</joint>
  		<mimicJoint>crank_right_joint</mimicJoint>
  		<multiplier>-1.0</multiplier>
  		<offset>0.0</offset>
  	</plugin>
  </gazebo>
</robot>
